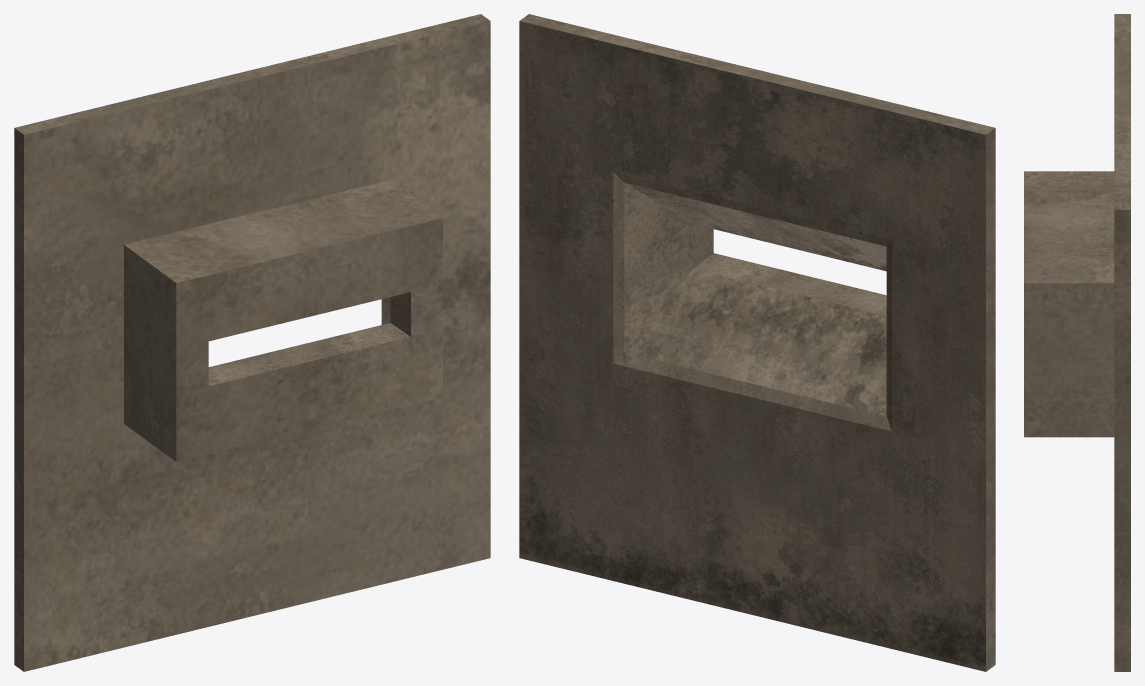
File: SM_BunkerWall_2m_C.glb
3 renders of one model, left to right at view 1: azimuth 30°, elevation 25°; view 2: azimuth 150°, elevation 25°; view 3: azimuth 270°, elevation 25°, orthographic. The views are drawn at different scales.
Parts seen in each view (by area): view 1: Bunker_Wall.002; view 2: Bunker_Wall.002; view 3: Bunker_Wall.002.
Part boxes in pixels (bbox=[...]): Bunker_Wall.002: bbox=[14, 14, 490, 671]; Bunker_Wall.002: bbox=[519, 14, 995, 671]; Bunker_Wall.002: bbox=[1024, 14, 1130, 671].
Size of the model in its own units: 2 by 2.2 by 0.4606.
1 material, 1 textured.
